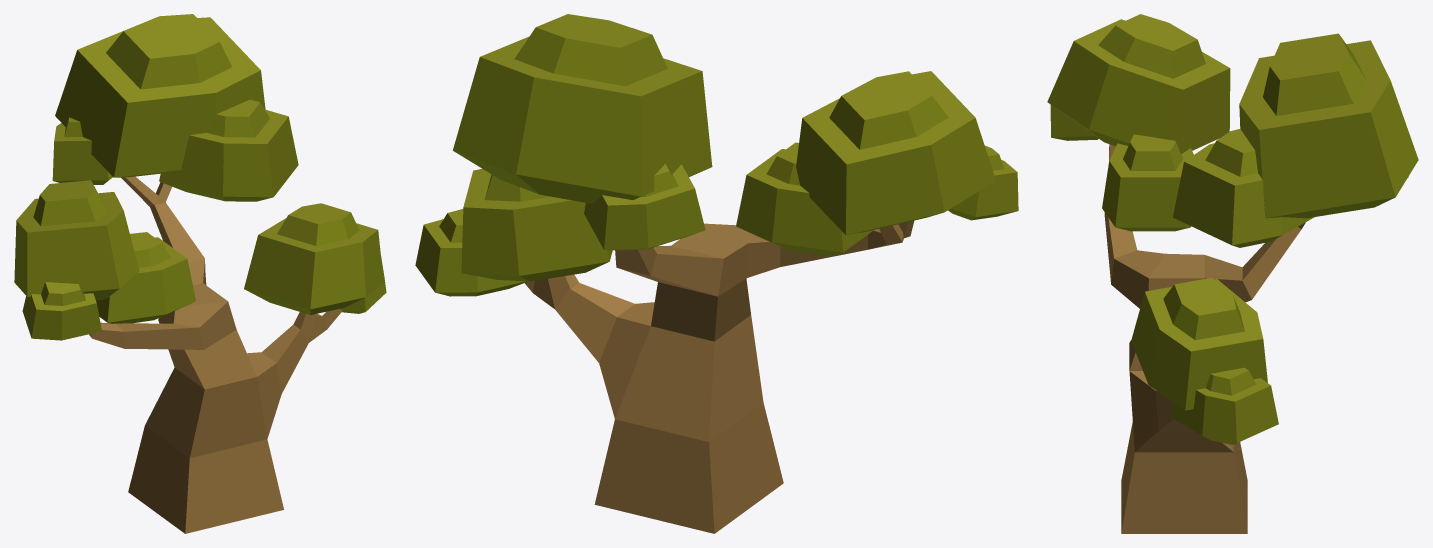
File: Tree1.fbx
3 renders of one model, left to right at view 1: azimuth 30°, elevation 25°; view 2: azimuth 150°, elevation 25°; view 3: azimuth 270°, elevation 25°, orthographic. The views are drawn at different scales.
Parts seen in each view (by area): view 1: ST_Env_Tree_Green_02; view 2: ST_Env_Tree_Green_02; view 3: ST_Env_Tree_Green_02.
Part boxes in pixels (left/top/right/bottom): ST_Env_Tree_Green_02: left=14, top=14, right=386, bottom=533; ST_Env_Tree_Green_02: left=415, top=14, right=1018, bottom=533; ST_Env_Tree_Green_02: left=1047, top=14, right=1418, bottom=533.
Bounding box in the file's own units: 3.17 × 3.02 × 2.17.
